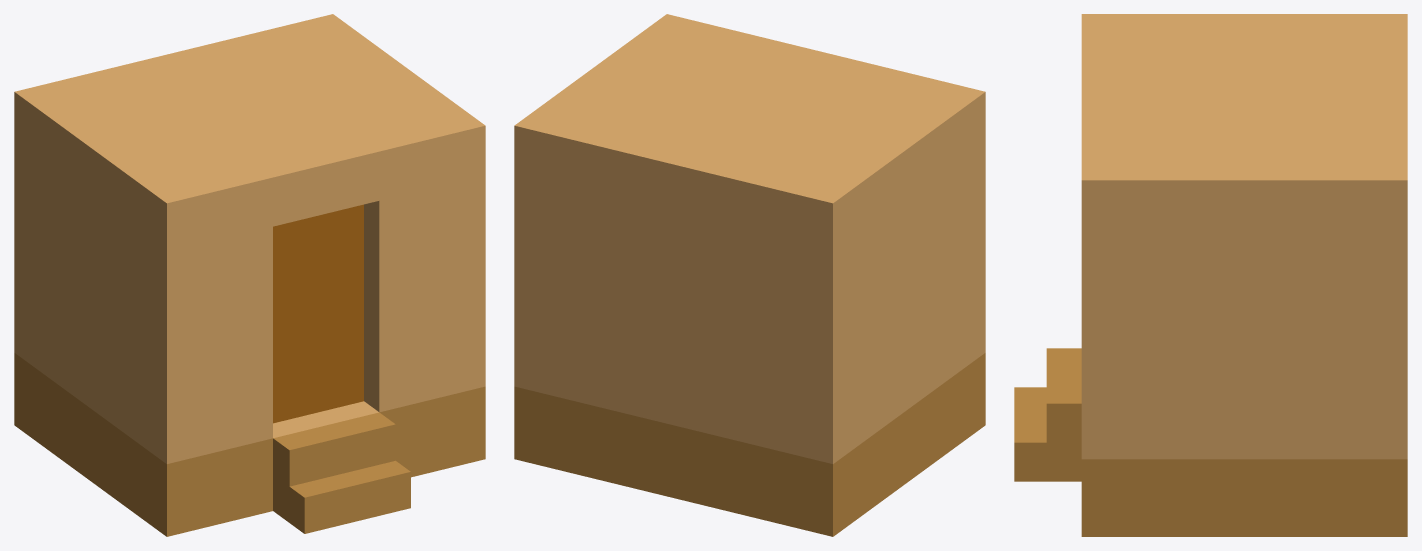
Rendered from Building Base5.fbx.
The picture shows the model from 3 angles, left to right: view 1: azimuth 30°, elevation 25°; view 2: azimuth 150°, elevation 25°; view 3: azimuth 270°, elevation 25°; orthographic projection. The views are drawn at different scales.
Visible parts, largest first — view 1: base1; view 2: base1; view 3: base1.
Boxes of the visible parts, x1,y1,x2,y2 form: base1: [14, 14, 485, 536]; base1: [514, 14, 985, 536]; base1: [1014, 14, 1407, 536].
Size of the model in its own units: 300 by 300 by 300.
